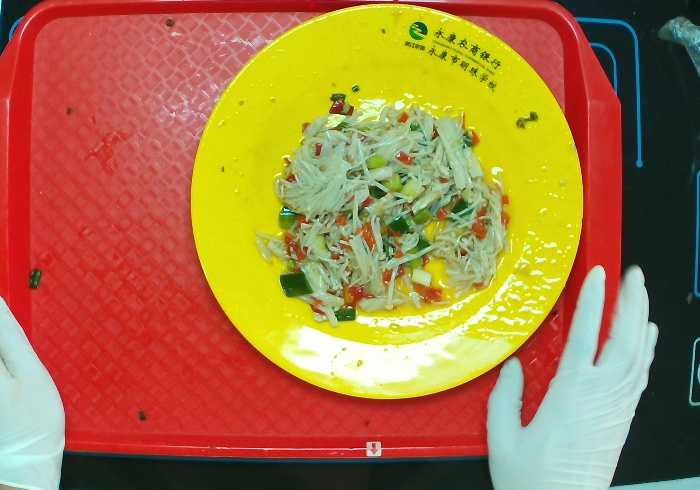YKMZ-Huang_Se_Mian_Pan: (187, 2, 586, 401)
